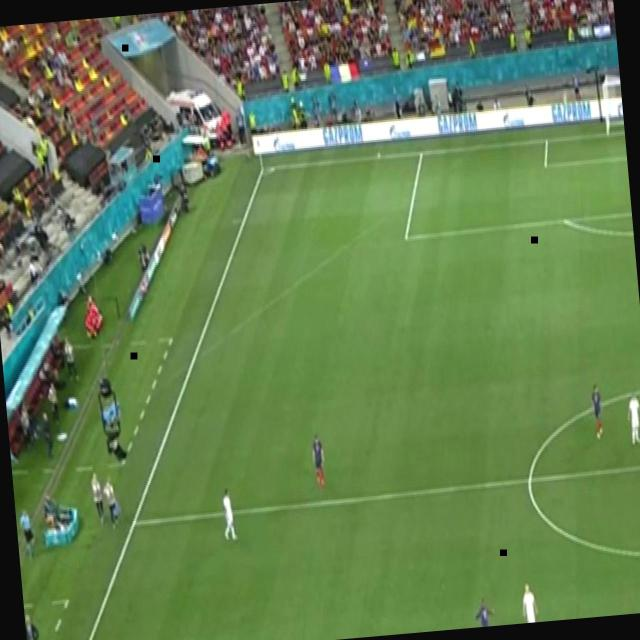player-white: (218, 482, 240, 546), (16, 502, 38, 564), (308, 432, 329, 492), (587, 381, 606, 443), (622, 388, 640, 449), (518, 578, 540, 624), (472, 593, 496, 628)
